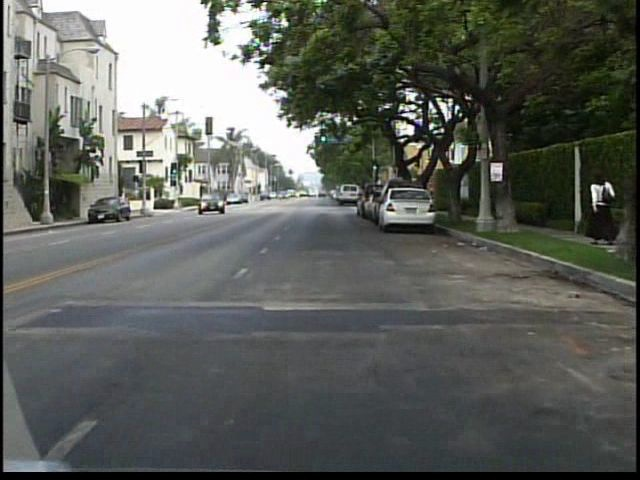person: (580, 164, 618, 250)
